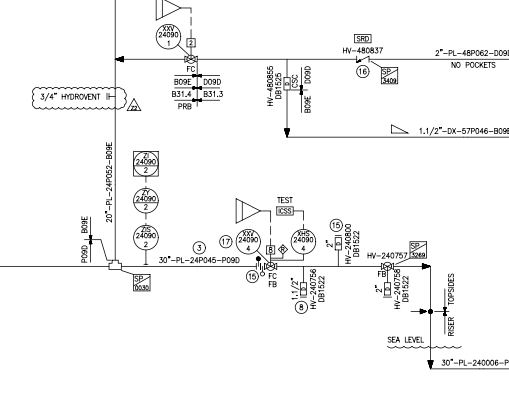Instrument: (289, 225, 318, 257), (132, 223, 161, 252), (132, 186, 160, 216), (153, 22, 183, 50), (235, 227, 263, 255)
Instrument-square: (129, 148, 161, 180)
